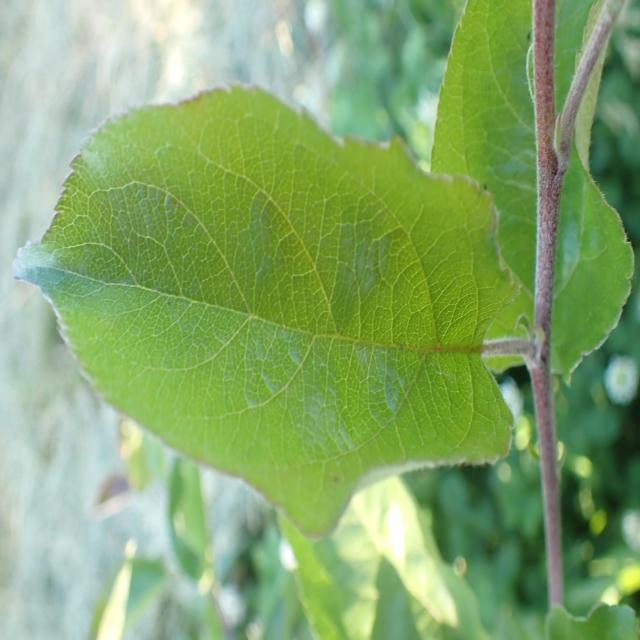healthy: (14, 83, 523, 538), (428, 0, 634, 387)
